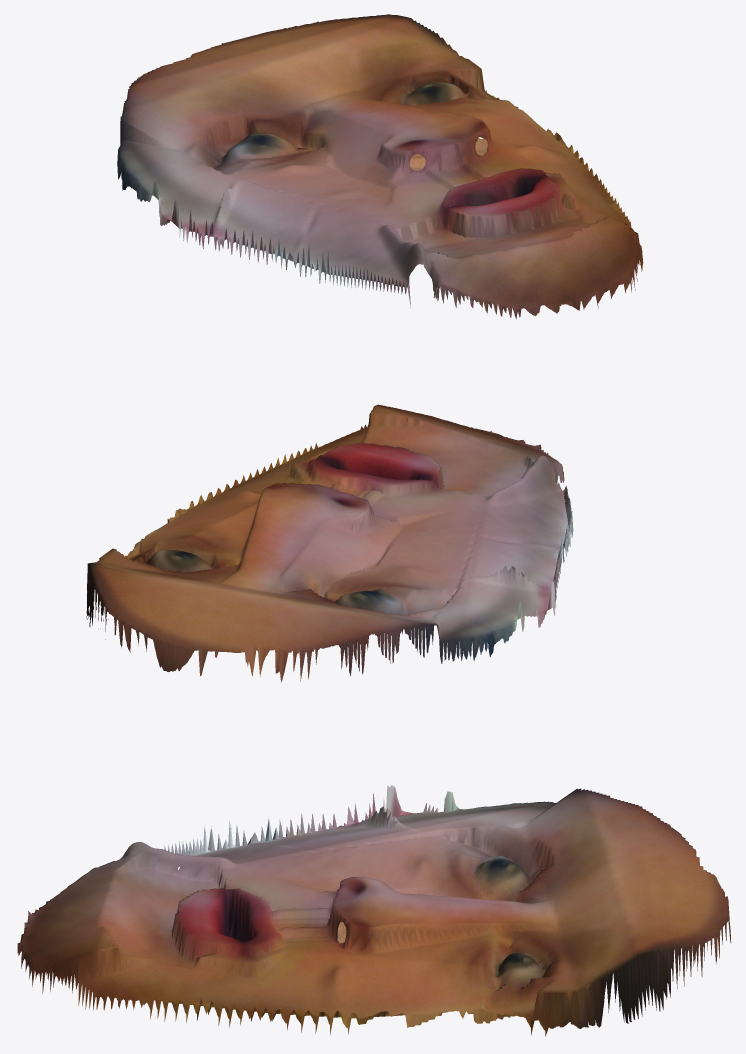
File: roo_land.fbx
3 views of the same model, one above another, from view 1: azimuth 30°, elevation 25°; view 2: azimuth 150°, elevation 25°; view 3: azimuth 270°, elevation 25° (orthographic). The views are drawn at different scales.
Visible parts, largest first — view 1: Face, NoseRoof; view 2: Face, NoseRoof; view 3: Face, NoseRoof.
Part boxes in pixels (x1,y1,x2,y2): Face: [117, 14, 643, 318]; NoseRoof: [298, 85, 508, 179]; Face: [86, 404, 573, 682]; NoseRoof: [211, 483, 390, 594]; Face: [17, 785, 731, 1036]; NoseRoof: [315, 877, 563, 965].
Bounding box in the file's own units: 400 × 60 × 588.
